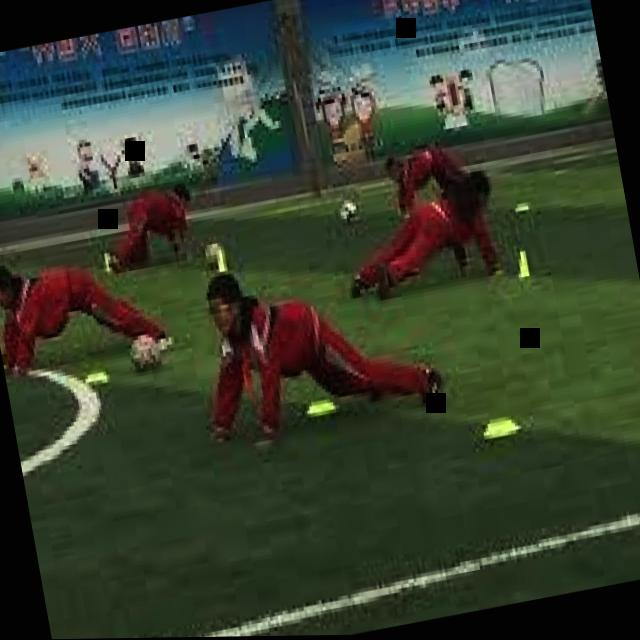Fall-Detected: (90, 157, 220, 282)
